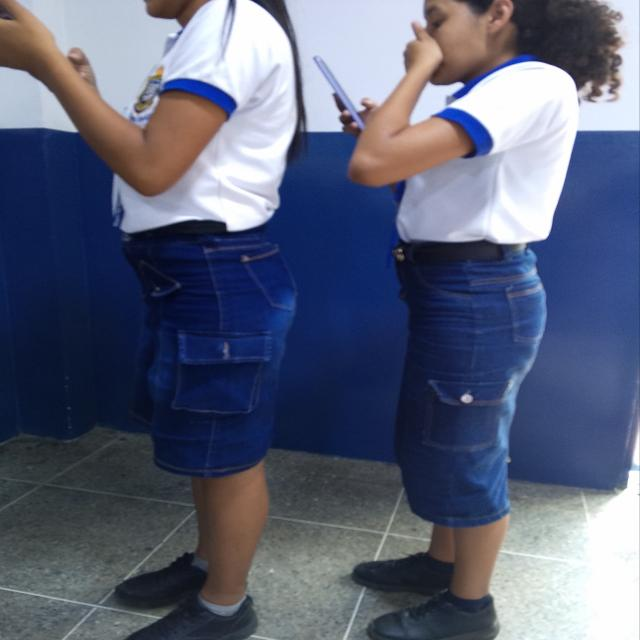uniforme_superior: (108, 1, 298, 233), (395, 54, 580, 244)
